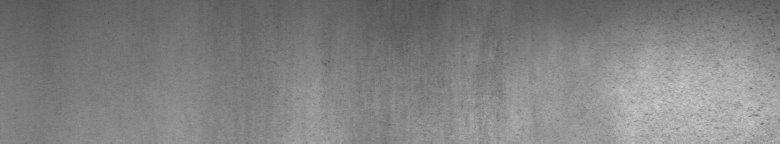ib: (690, 10, 775, 125)
